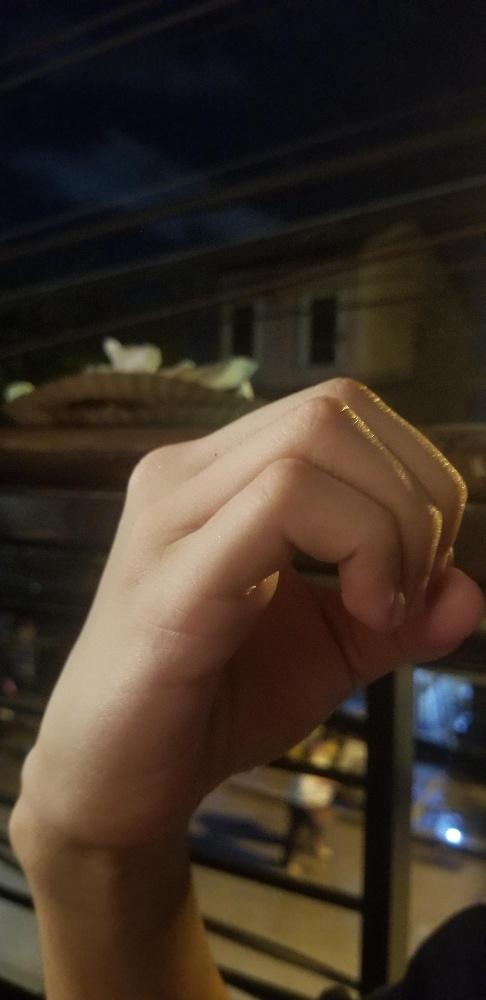o: (10, 372, 485, 856)
